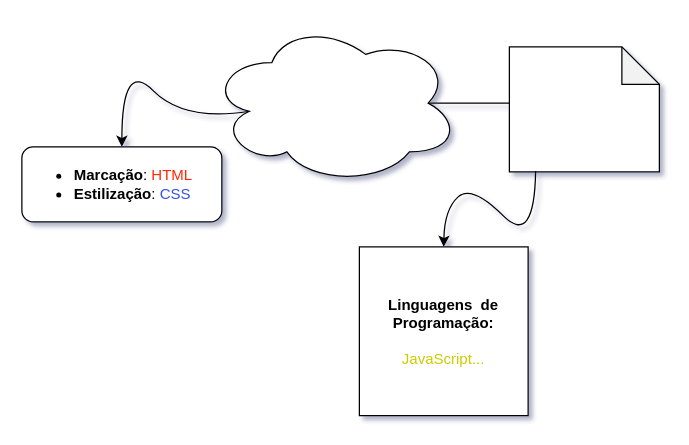
The diagram is 689 pixels wide and 445 high, and some of its shapes have lost their labels. The shapes that lost their labels are listed below. From the top down, each one's box as (x1, y1, x2, y2) in pixels, then its label:
(208, 21, 459, 184): Linguagens Utilizadas
(508, 46, 659, 172): Futuramente serão adicionadas:
